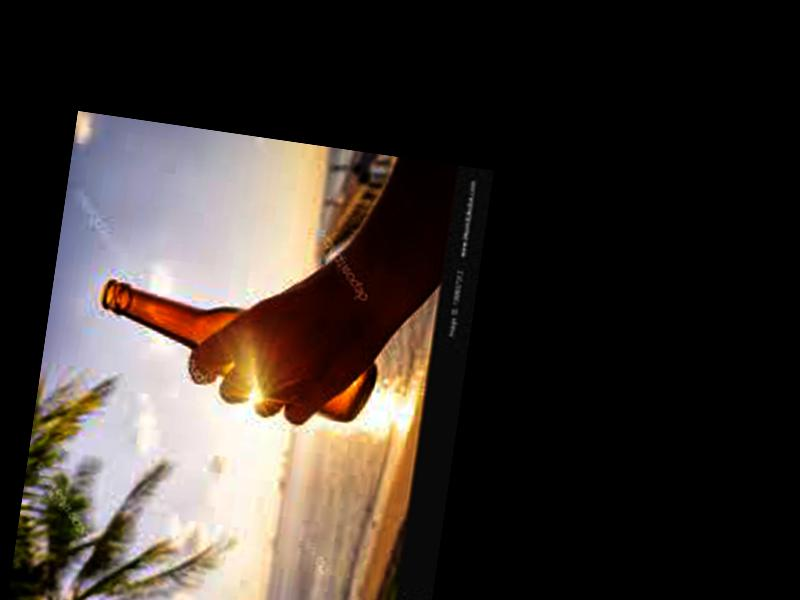Beer: (89, 277, 384, 425)
